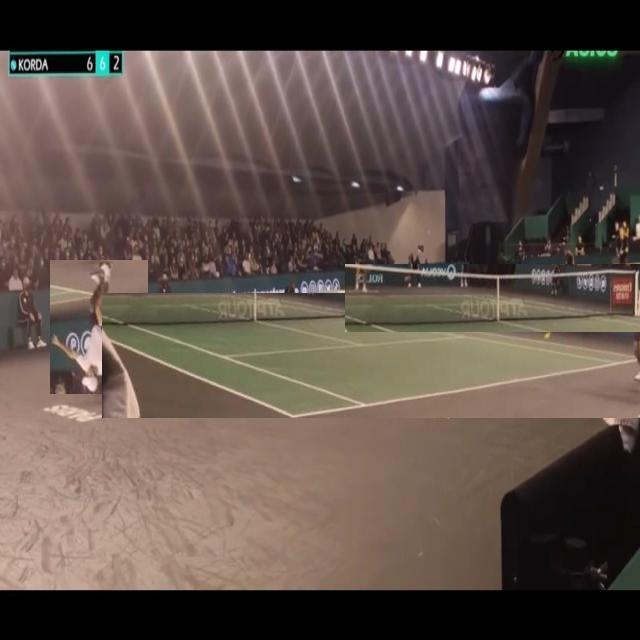court: (102, 293, 640, 418)
net: (345, 264, 640, 332)
player: (50, 260, 148, 394)
